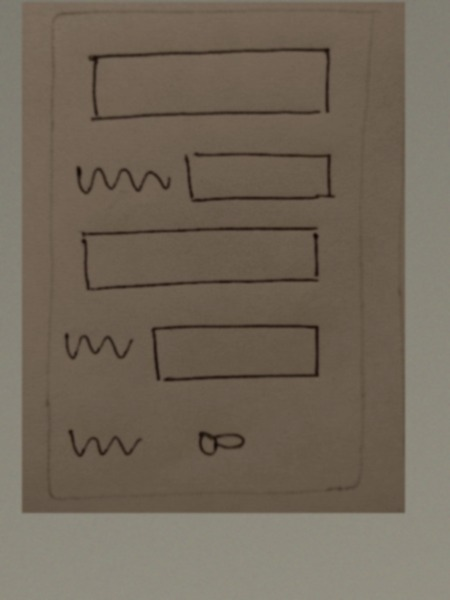switch: (186, 422, 256, 462)
text: (69, 159, 174, 202), (60, 422, 147, 465), (60, 326, 140, 370)
text_input: (82, 44, 335, 127), (72, 221, 330, 295), (144, 318, 331, 388), (180, 145, 339, 206)
